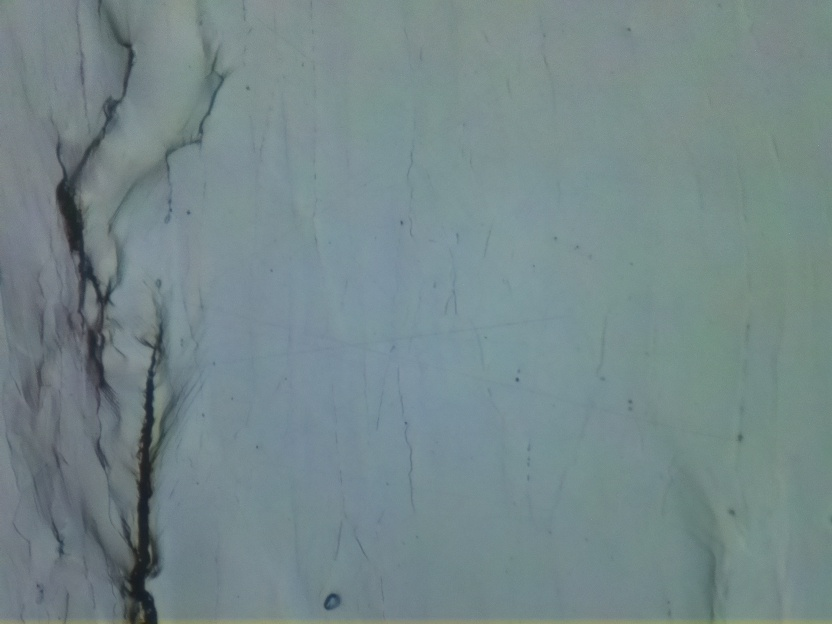crack: (49, 27, 135, 423), (117, 323, 174, 624), (160, 64, 236, 231)
